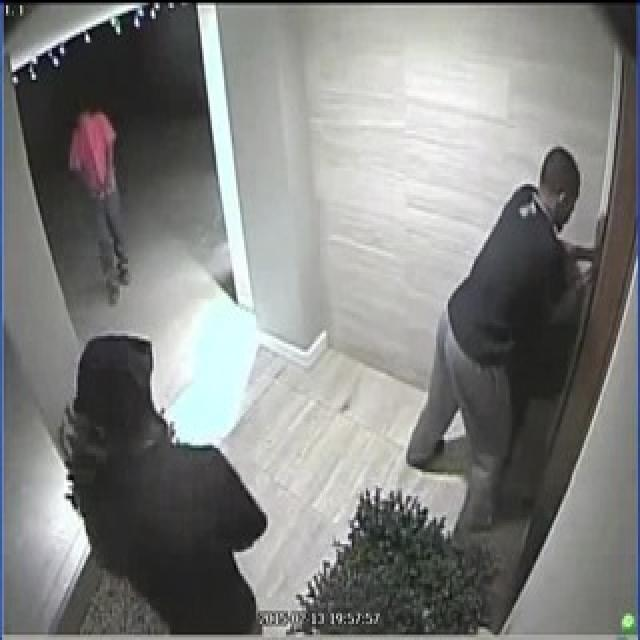thief: (397, 142, 614, 497), (65, 327, 260, 640), (62, 93, 143, 305)
